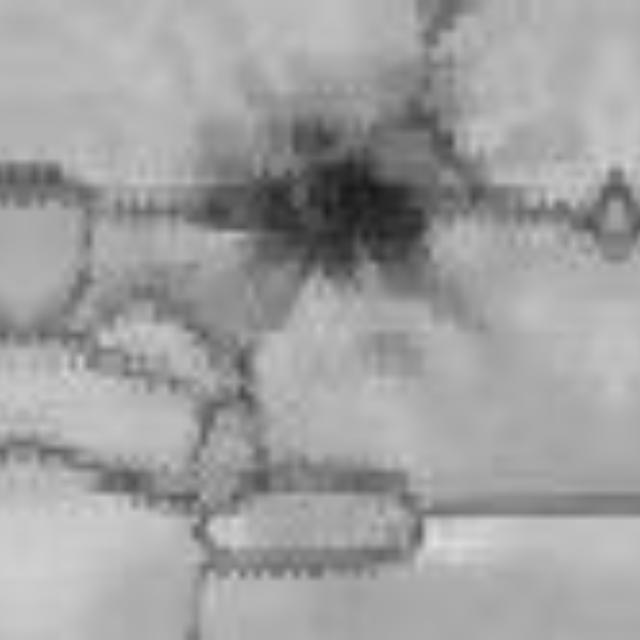good_void: (197, 120, 474, 333)
